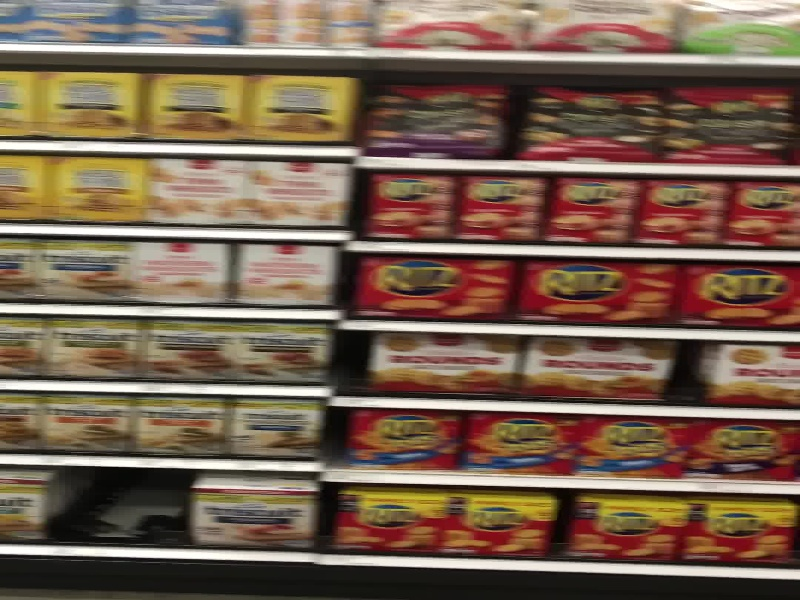void: (56, 471, 191, 543)
